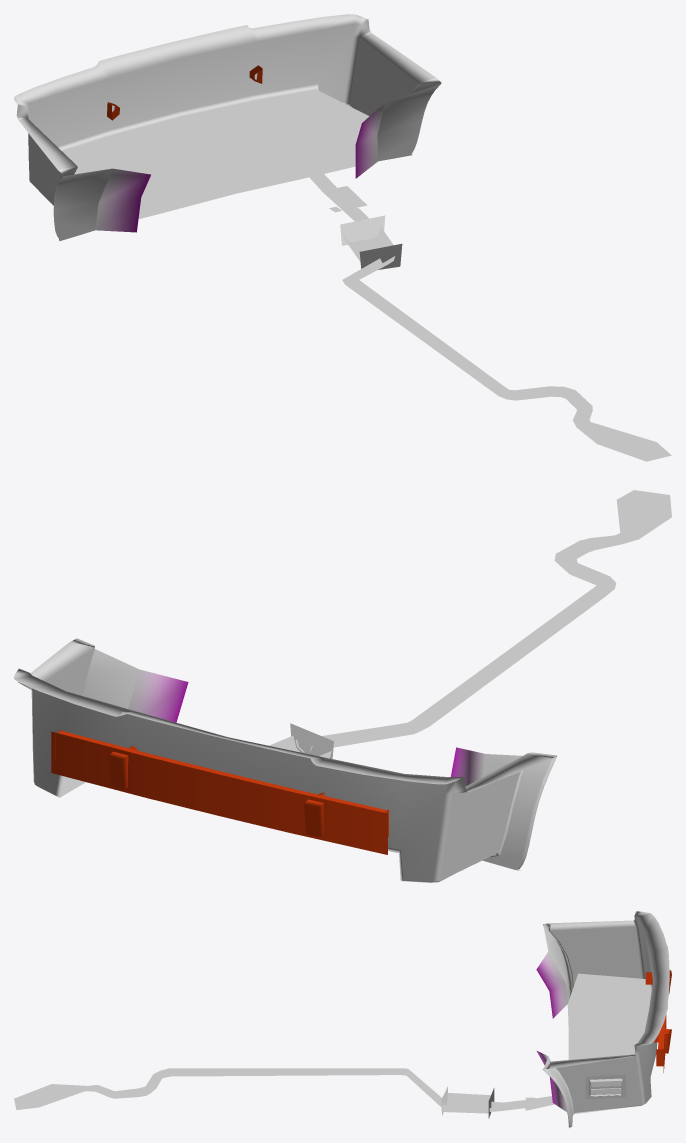
Rendered from Car_Nissan_SkylineGTRVspecR34_1999_BumperChassisR_SetE.fbx.
3 renders of one model, top to bottom at view 1: azimuth 30°, elevation 25°; view 2: azimuth 150°, elevation 25°; view 3: azimuth 270°, elevation 25°, orthographic. The views are drawn at different scales.
Parts seen in each view (by area): view 1: BumperChassisR 6; view 2: BumperChassisR 6; view 3: BumperChassisR 6.
Part boxes in pixels (x1,y1,x2,y2): BumperChassisR 6: [14, 14, 671, 461]; BumperChassisR 6: [14, 490, 671, 882]; BumperChassisR 6: [14, 911, 671, 1128].
Size of the model in its own units: 1.77 by 0.6211 by 3.38.
